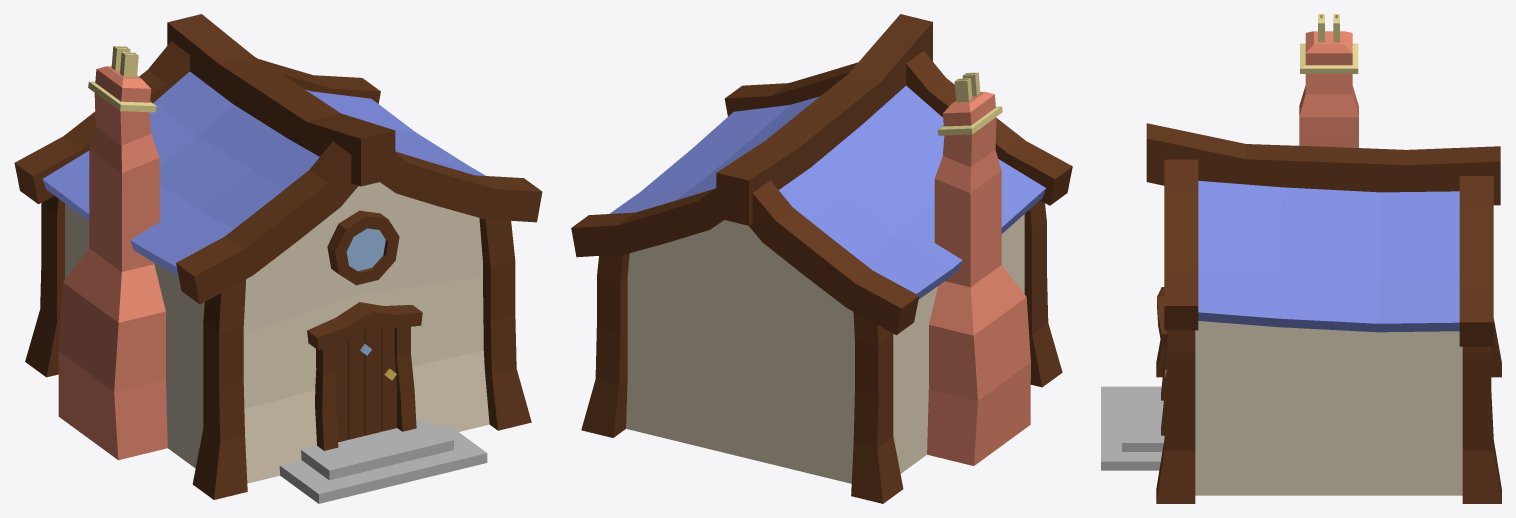
File: house_01.2.fbx
3 views of the same model, side by side, from view 1: azimuth 30°, elevation 25°; view 2: azimuth 150°, elevation 25°; view 3: azimuth 270°, elevation 25° (orthographic). The views are drawn at different scales.
Visible parts, largest first — view 1: Cube, chimney, roof, Cube.001, Cube.002, Cube.004, Cube.003, Plane, Cube.008, Cube.009, window, Cube.005 (+2 smaller); view 2: Cube, roof, chimney, Cube.001, Cube.003, Cube.004, Cube.002; view 3: Cube, roof, Cube.004, Cube.001, chimney, Cube.002, Cube.003, Cube.009, Cube.008.
Part boxes in pixels (box(x1,y1,x2,y2)): Cube: box(65, 182, 489, 483); chimney: box(58, 46, 167, 460); roof: box(42, 71, 485, 276); Cube.001: box(25, 196, 531, 499); Cube.002: box(176, 141, 542, 304); Cube.004: box(167, 14, 395, 186); Cube.003: box(14, 41, 380, 204); Plane: box(336, 324, 396, 442); Cube.008: box(279, 424, 487, 503); Cube.009: box(301, 419, 453, 480); window: box(327, 210, 399, 285); Cube.005: box(315, 327, 416, 450); Cube: box(626, 214, 1024, 483); roof: box(609, 85, 1045, 299); chimney: box(927, 72, 1030, 465); Cube.001: box(581, 200, 1062, 503); Cube.003: box(571, 180, 919, 335); Cube.004: box(716, 14, 932, 225); Cube.002: box(724, 51, 1072, 205); Cube: box(1195, 321, 1462, 495); roof: box(1198, 180, 1459, 332); Cube.004: box(1146, 123, 1500, 205); Cube.001: box(1156, 319, 1501, 503); chimney: box(1299, 14, 1358, 147); Cube.002: box(1164, 159, 1198, 330); Cube.003: box(1459, 176, 1493, 346); Cube.009: box(1122, 387, 1164, 451); Cube.008: box(1101, 386, 1162, 470).
Size of the model in its own units: 261 by 259 by 270.
